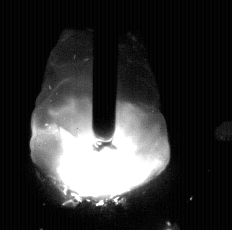arame: (93, 0, 117, 139)
poca: (29, 0, 169, 230)
